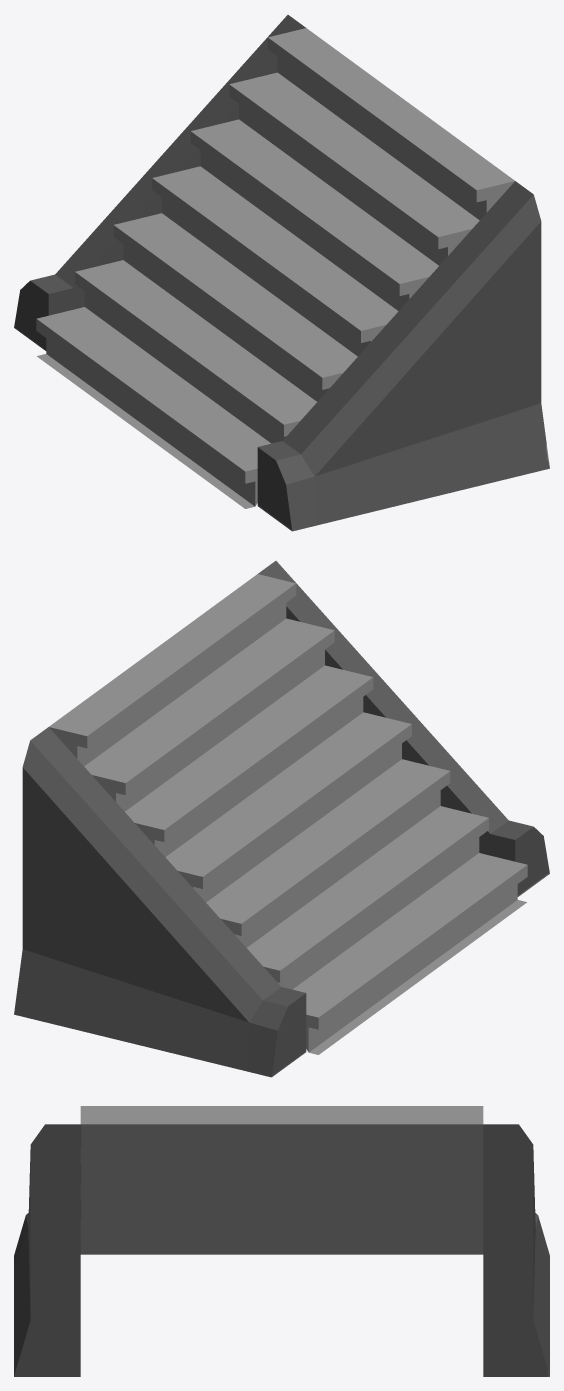
The model's file is SmallStairs.fbx.
3 views of the same model, one above another, from view 1: azimuth 30°, elevation 25°; view 2: azimuth 150°, elevation 25°; view 3: azimuth 270°, elevation 25° (orthographic). The views are drawn at different scales.
Parts seen in each view (by area): view 1: Cube.298; view 2: Cube.298; view 3: Cube.298.
Part boxes in pixels (x1,y1,x2,y2): Cube.298: (14, 15, 549, 531); Cube.298: (14, 561, 549, 1077); Cube.298: (14, 1106, 549, 1376).
Size of the model in its own units: 280 by 500 by 260.
